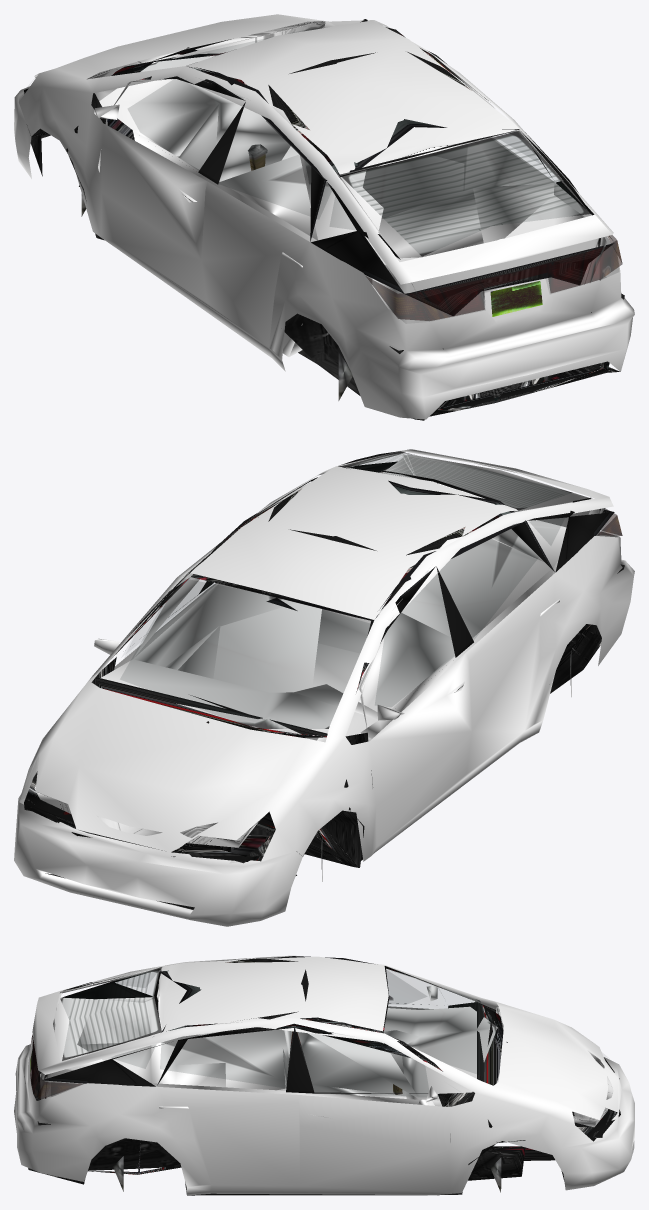
Rendered from dilettante-lod.glb.
3 renders of one model, top to bottom at view 1: azimuth 30°, elevation 25°; view 2: azimuth 150°, elevation 25°; view 3: azimuth 270°, elevation 25°, orthographic. The views are drawn at different scales.
Size of the model in its own units: 1.87 by 1.31 by 4.4.
9 materials, 8 textured.
